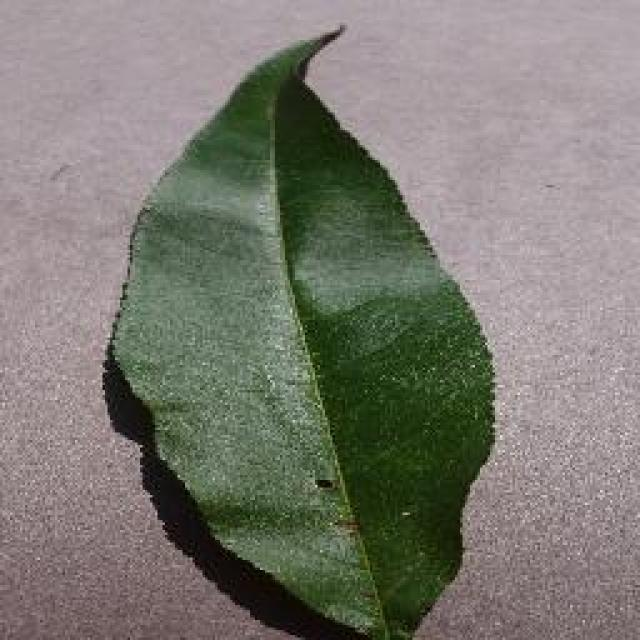Pea_healthy: (131, 91, 504, 584)
